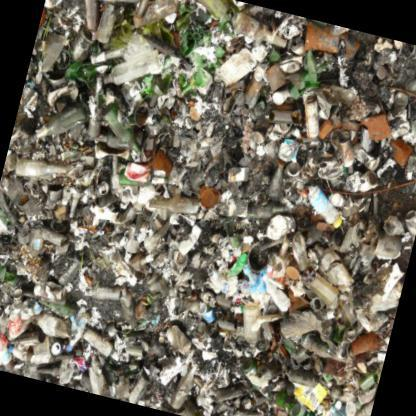Garbage: (34, 140, 325, 415), (57, 0, 366, 197), (76, 190, 212, 315), (7, 130, 124, 272), (218, 231, 376, 331), (0, 280, 54, 379), (282, 168, 352, 216)
